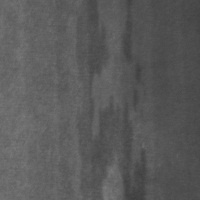inclusion: (81, 94, 153, 200), (71, 1, 110, 118), (119, 2, 150, 91)
